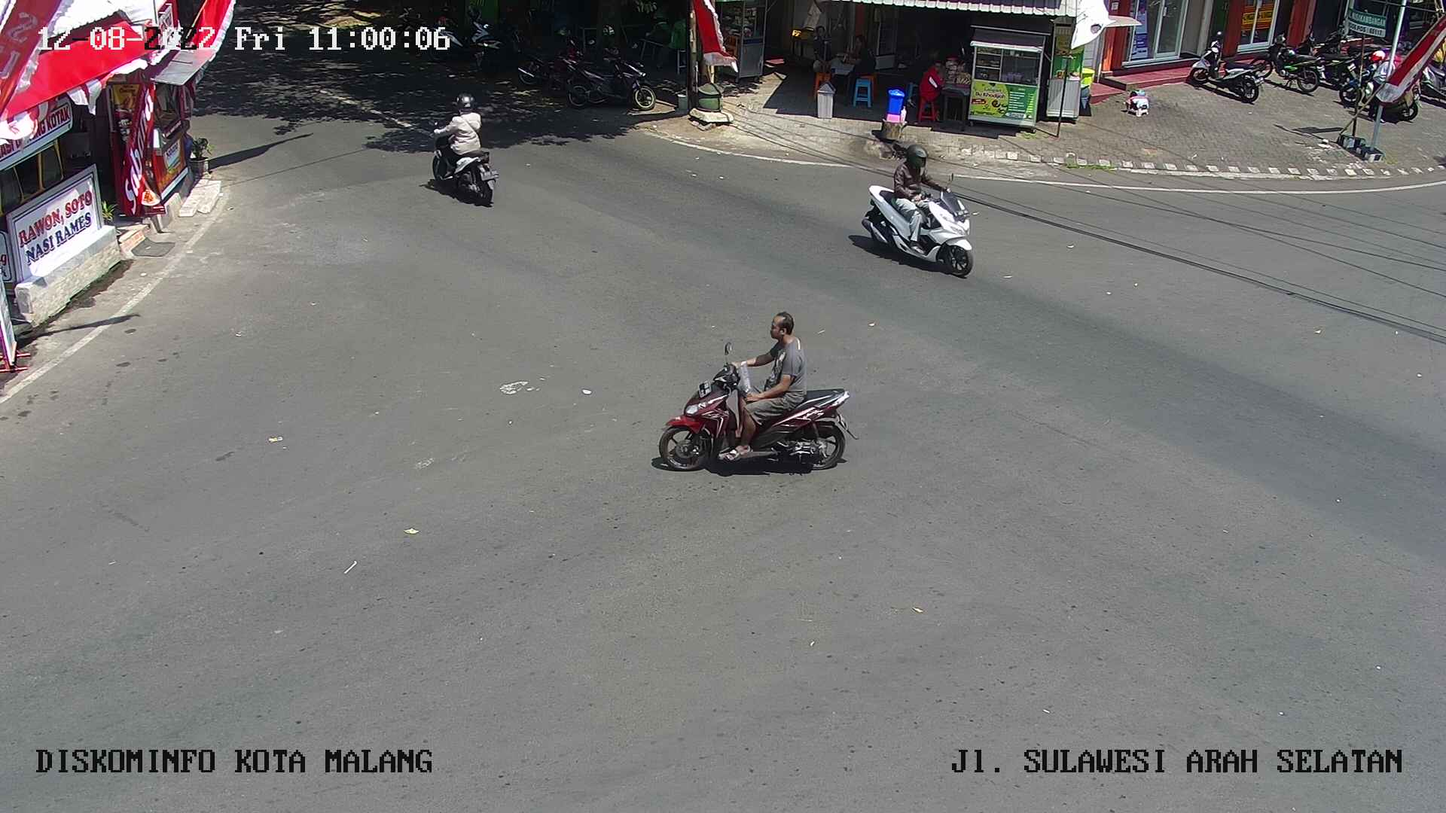with_helmet: (849, 151, 982, 282), (425, 89, 503, 208)
without_helmet: (641, 306, 874, 483)
